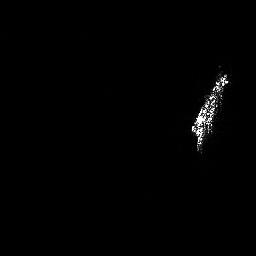ship: (185, 68, 229, 153)
